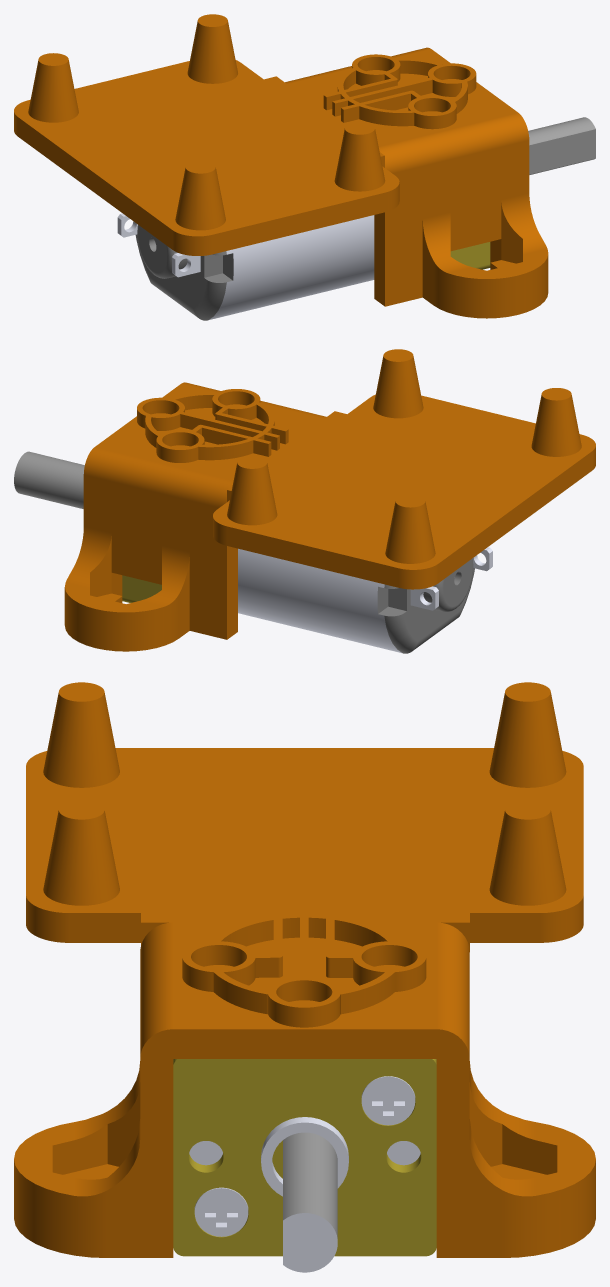
Rendered from orangeTurbineGenerator.glb.
The picture shows the model from 3 angles, top to bottom: view 1: azimuth 30°, elevation 25°; view 2: azimuth 150°, elevation 25°; view 3: azimuth 270°, elevation 25°; orthographic projection. The views are drawn at different scales.
Parts seen in each view (by area): view 1: 5:1 Micro Metal Gearmotor LP 6V5:1 Micro Metal Gearmotor LP; view 2: 5:1 Micro Metal Gearmotor LP 6V5:1 Micro Metal Gearmotor LP; view 3: 5:1 Micro Metal Gearmotor LP 6V5:1 Micro Metal Gearmotor LP.
Boxes of the visible parts, x1,y1,x2,y2 form: 5:1 Micro Metal Gearmotor LP 6V5:1 Micro Metal Gearmotor LP: (14, 14, 595, 320); 5:1 Micro Metal Gearmotor LP 6V5:1 Micro Metal Gearmotor LP: (14, 349, 595, 653); 5:1 Micro Metal Gearmotor LP 6V5:1 Micro Metal Gearmotor LP: (14, 682, 595, 1272).
Size of the model in its own units: 3.94 by 1.55 by 2.65.
